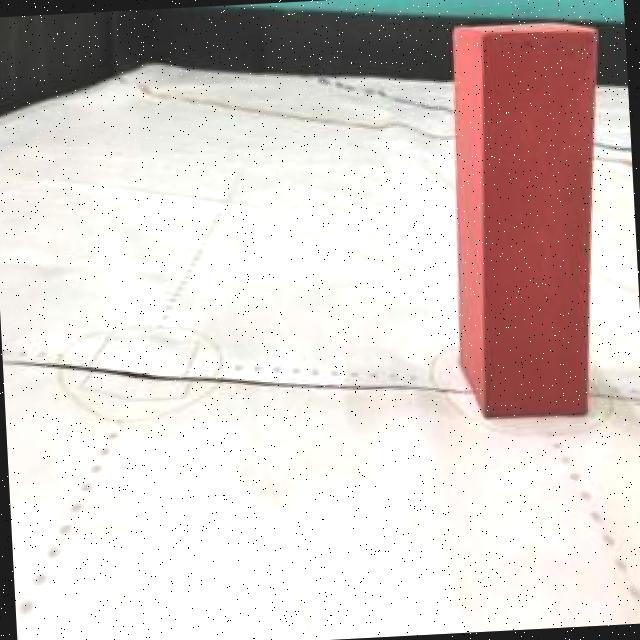redbox: (438, 17, 617, 418)
